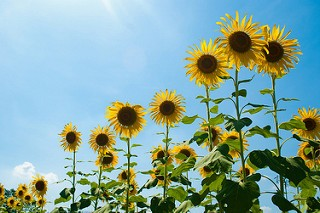flower: (214, 8, 269, 72), (248, 23, 304, 77), (180, 36, 234, 88), (103, 99, 148, 139), (148, 88, 187, 127), (292, 106, 320, 140), (89, 124, 118, 153), (57, 121, 82, 152), (29, 175, 50, 198)
